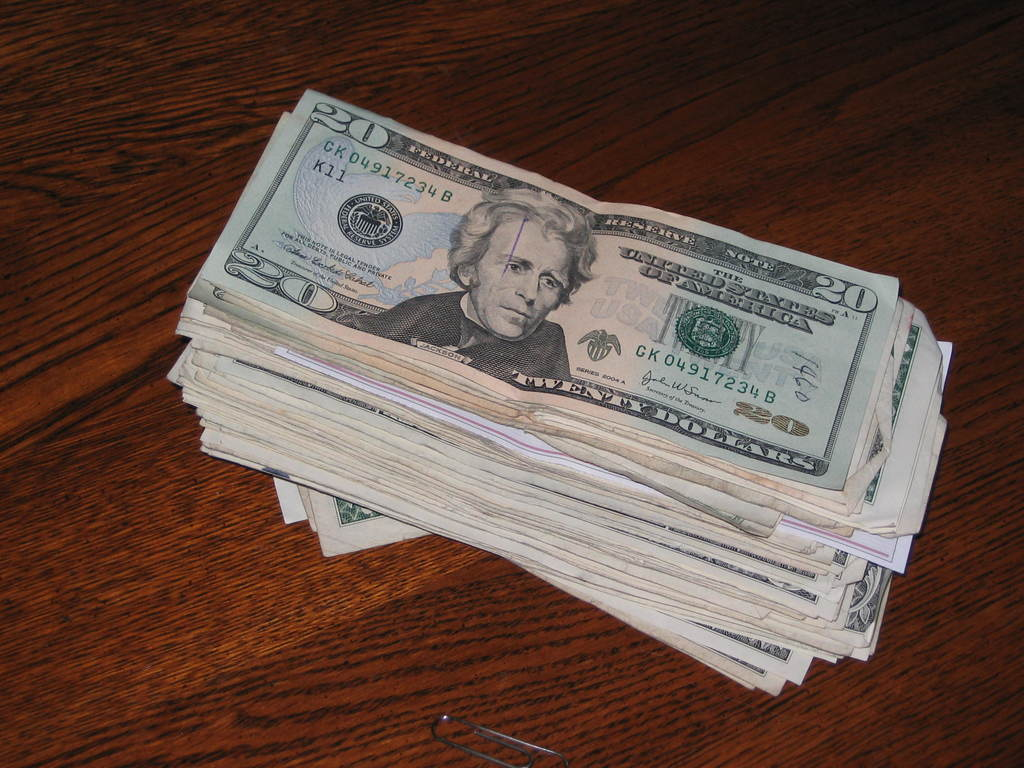Person: (331, 188, 604, 382)
